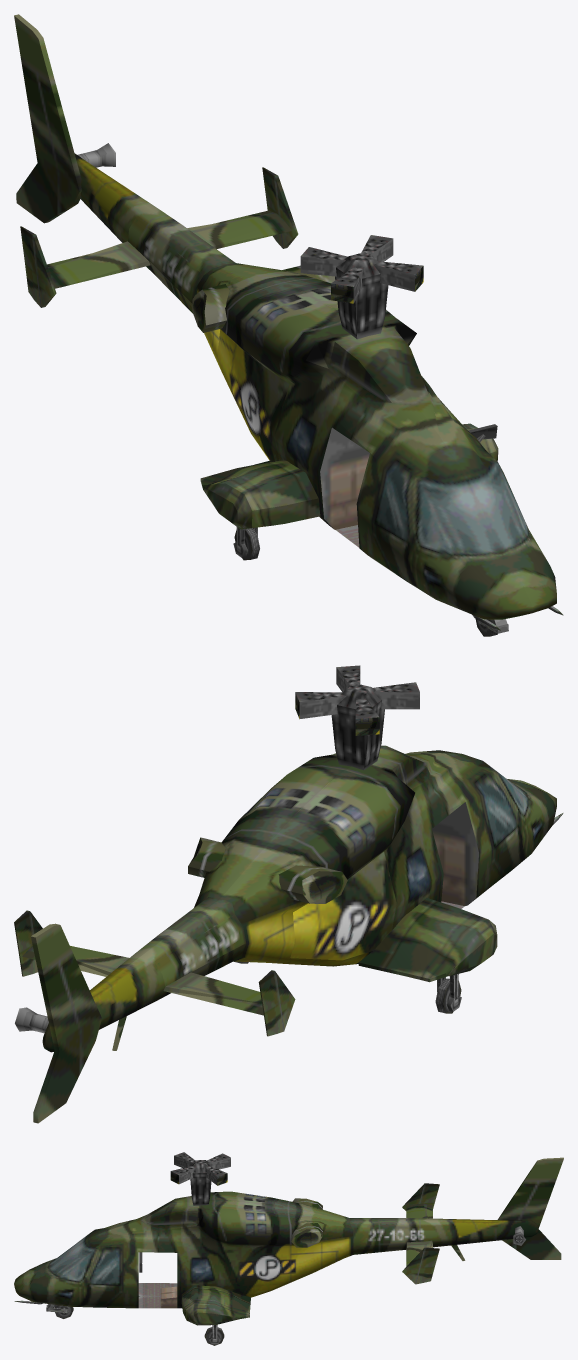
Rendered from Helicoptero.obj.
The picture shows the model from 3 angles, top to bottom: view 1: azimuth 30°, elevation 25°; view 2: azimuth 150°, elevation 25°; view 3: azimuth 270°, elevation 25°; orthographic projection. The views are drawn at different scales.
Visible parts, largest first — view 1: Bone03_mesh; view 2: Bone03_mesh; view 3: Bone03_mesh.
Boxes of the visible parts, x1,y1,x2,y2 form: Bone03_mesh: [14, 14, 563, 636]; Bone03_mesh: [14, 665, 563, 1123]; Bone03_mesh: [14, 1152, 563, 1345].
Size of the model in its own units: 3.61 by 3.78 by 12.02.
1 material, 1 textured.
